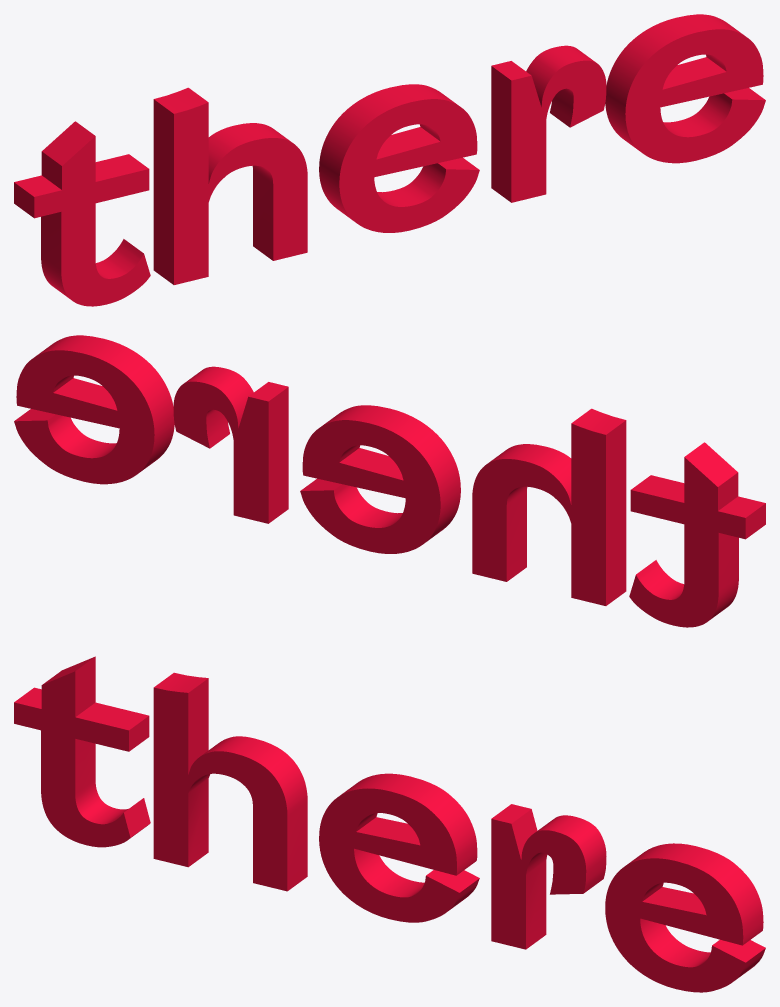
Rendered from there_04.obj.
The picture shows the model from 3 angles, top to bottom: view 1: azimuth 30°, elevation 25°; view 2: azimuth 150°, elevation 25°; view 3: azimuth 330°, elevation 25°; orthographic projection.
Visible parts, largest first — view 1: Default; view 2: Default; view 3: Default.
Boxes of the visible parts, x1,y1,x2,y2 form: Default: (14, 14, 765, 306); Default: (14, 335, 765, 627); Default: (14, 656, 765, 992).
Size of the model in its own units: 1.22 by 0.2817 by 0.0584.
